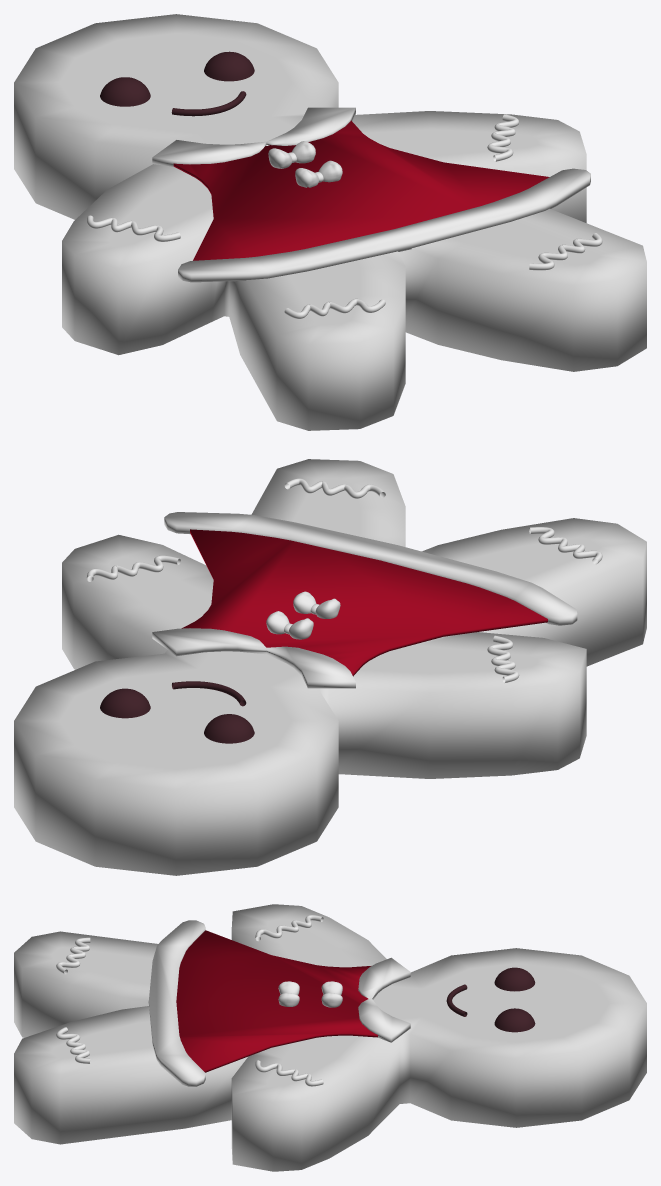
Rendered from ggb3.glb.
3 views of the same model, one above another, from view 1: azimuth 30°, elevation 25°; view 2: azimuth 150°, elevation 25°; view 3: azimuth 270°, elevation 25° (orthographic). The views are drawn at different scales.
Visible parts, largest first — view 1: Circle.048, Circle.049, Circle.051, Circle.050, Sphere.028, NurbsPath.023, NurbsPath.022, Sphere.029, Sphere.030; view 2: Circle.048, Circle.049, Circle.051, Circle.050, Sphere.028, NurbsPath.023, NurbsPath.022, Sphere.029, Sphere.030; view 3: Circle.048, Circle.049, Circle.051, Circle.050, Sphere.028, NurbsPath.023, NurbsPath.022, Sphere.029, Sphere.030.
Part boxes in pixels (left/top/right/bottom): Circle.048: left=14, top=14, right=646, bottom=430; Circle.049: left=173, top=120, right=549, bottom=260; Circle.051: left=178, top=168, right=590, bottom=282; Circle.050: left=152, top=107, right=355, bottom=166; Sphere.028: left=100, top=51, right=254, bottom=106; NurbsPath.023: left=86, top=114, right=519, bottom=241; NurbsPath.022: left=284, top=233, right=602, bottom=318; Sphere.029: left=268, top=141, right=315, bottom=168; Sphere.030: left=295, top=160, right=342, bottom=187; Circle.048: left=14, top=459, right=646, bottom=875; Circle.049: left=181, top=529, right=547, bottom=676; Circle.051: left=164, top=512, right=577, bottom=625; Circle.050: left=152, top=628, right=355, bottom=688; Sphere.028: left=100, top=688, right=254, bottom=743; NurbsPath.023: left=86, top=555, right=519, bottom=682; NurbsPath.022: left=284, top=478, right=602, bottom=564; Sphere.029: left=266, top=611, right=313, bottom=639; Sphere.030: left=293, top=591, right=340, bottom=618; Circle.048: left=14, top=904, right=646, bottom=1171; Circle.049: left=176, top=930, right=377, bottom=1072; Circle.051: left=148, top=920, right=205, bottom=1086; Circle.050: left=358, top=957, right=410, bottom=1042; Sphere.028: left=494, top=967, right=535, bottom=1032; NurbsPath.023: left=255, top=915, right=323, bottom=1086; NurbsPath.022: left=56, top=937, right=90, bottom=1063; Sphere.029: left=321, top=981, right=342, bottom=1007; Sphere.030: left=278, top=981, right=299, bottom=1006.
Size of the model in its own units: 3.59 by 0.7238 by 4.85.
